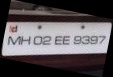character: (7, 35, 20, 46), (32, 34, 42, 45), (20, 35, 30, 45), (42, 35, 52, 45), (54, 34, 62, 45), (62, 34, 70, 45), (81, 34, 89, 44), (89, 34, 97, 44), (73, 35, 81, 44), (98, 34, 105, 44)
